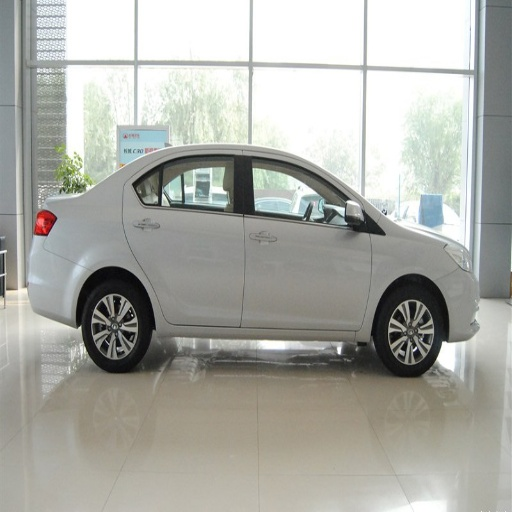back_right_door: (127, 149, 242, 324)
front_right_door: (241, 151, 372, 326)
